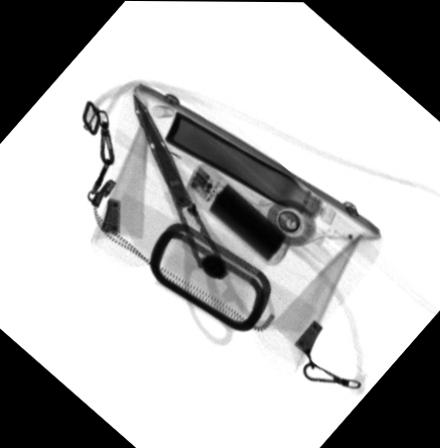Powerbank: (182, 159, 294, 264)
Scissors: (127, 86, 276, 347)
